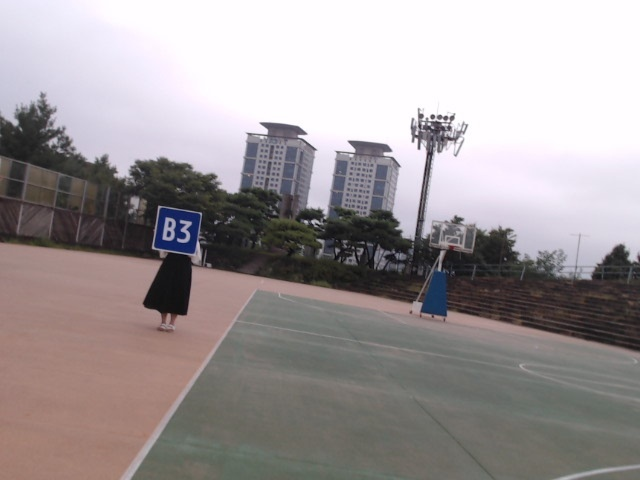delivery_b3: (154, 205, 200, 255)
